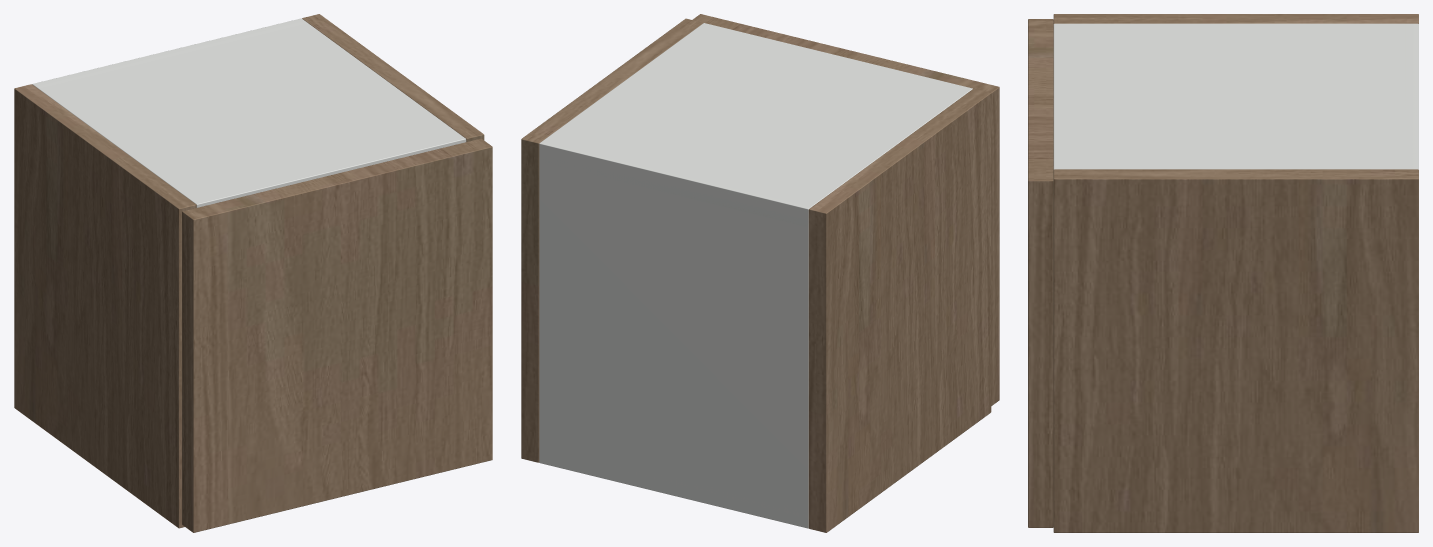
The model's file is oppein-pb-mnw-w1212.glb.
3 renders of one model, left to right at view 1: azimuth 30°, elevation 25°; view 2: azimuth 150°, elevation 25°; view 3: azimuth 270°, elevation 25°, orthographic. The views are drawn at different scales.
Visible parts, largest first — view 1: Door, Cabinet side, Cabinet top, Cabinet side.001, Cabinet back; view 2: Cabinet back, Cabinet side, Cabinet top, Cabinet side.001, Door; view 3: Cabinet side.001, Cabinet top, Door, Cabinet side, Cabinet back.
Boxes of the visible parts, box(x1,y1,x2,y2) form: Door: box(182, 138, 492, 532); Cabinet side: box(14, 84, 196, 528); Cabinet top: box(38, 19, 466, 207); Cabinet side.001: box(302, 14, 484, 141); Cabinet back: box(32, 18, 307, 88); Cabinet back: box(539, 138, 814, 528); Cabinet side: box(808, 88, 991, 532); Cabinet top: box(540, 23, 972, 226); Cabinet side.001: box(521, 18, 703, 462); Door: box(692, 14, 999, 405); Cabinet side.001: box(1053, 169, 1418, 532); Cabinet top: box(1053, 23, 1418, 169); Door: box(1028, 19, 1053, 527); Cabinet side: box(1053, 14, 1418, 23); Cabinet back: box(1404, 23, 1418, 169).
Size of the model in its own units: 0.3048 by 0.3048 by 0.3048.
2 materials, 1 textured.
